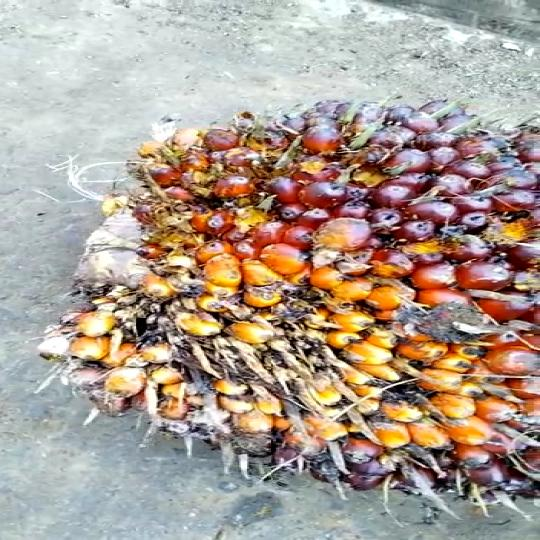masak: (41, 100, 540, 501)
